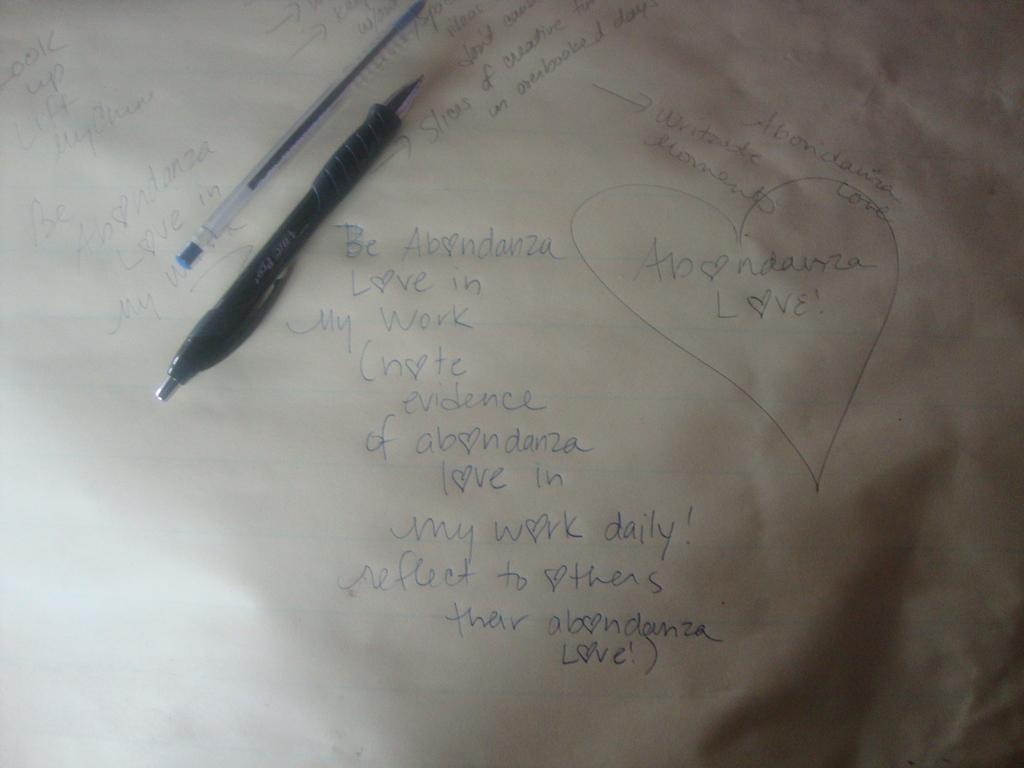pen: (157, 71, 431, 399), (170, 0, 435, 271)
